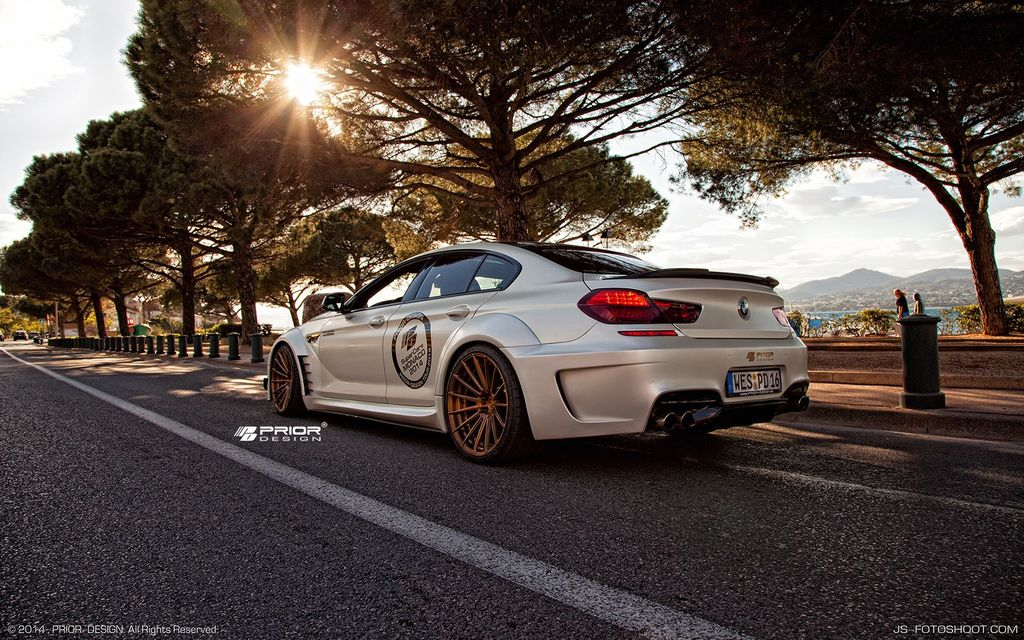mobil: (265, 238, 819, 467)
